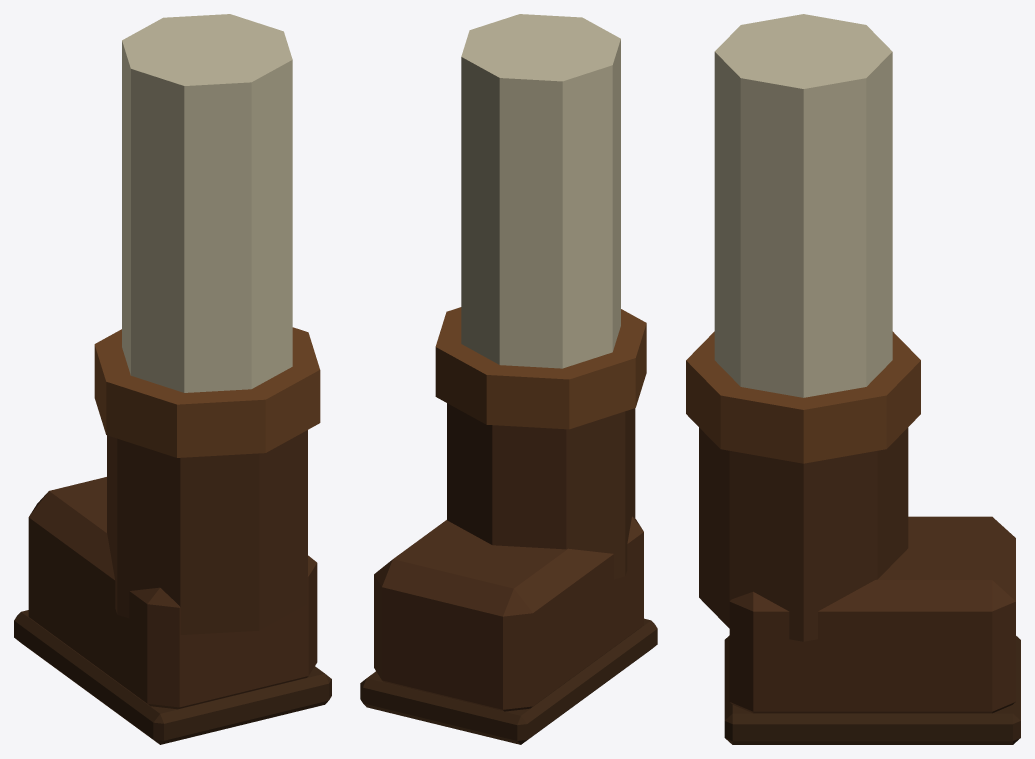
The model's file is LegLeft.glb.
3 views of the same model, side by side, from view 1: azimuth 30°, elevation 25°; view 2: azimuth 150°, elevation 25°; view 3: azimuth 270°, elevation 25° (orthographic). The views are drawn at different scales.
Parts seen in each view (by area): view 1: Sculpture; view 2: Sculpture; view 3: Sculpture.
Boxes of the visible parts, x1=… form: Sculpture: x1=14, y1=14, x2=331, y2=744; Sculpture: x1=360, y1=14, x2=657, y2=744; Sculpture: x1=686, y1=14, x2=1020, y2=744.
Size of the model in its own units: 0.238 by 0.7295 by 0.339.
